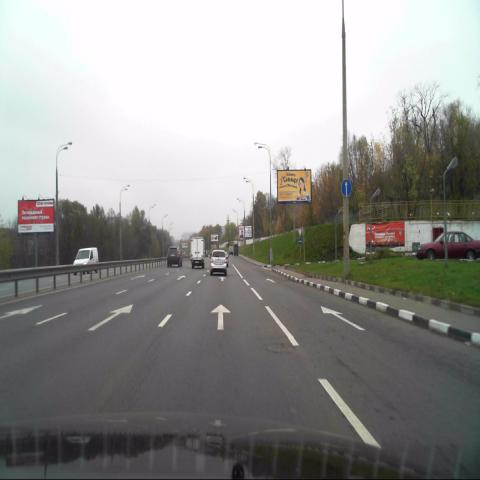4_1_1: (341, 178, 351, 196)
